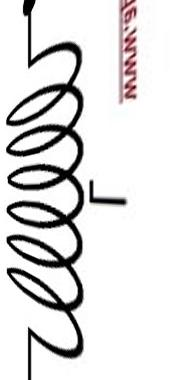inductor: (2, 34, 92, 360)
